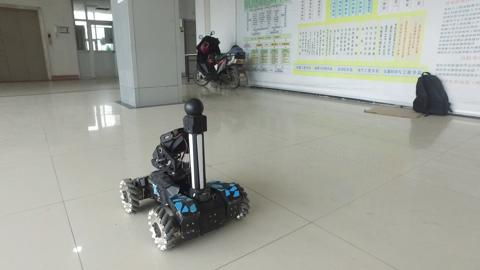bag: (409, 68, 455, 123)
chariot: (115, 91, 266, 251)
